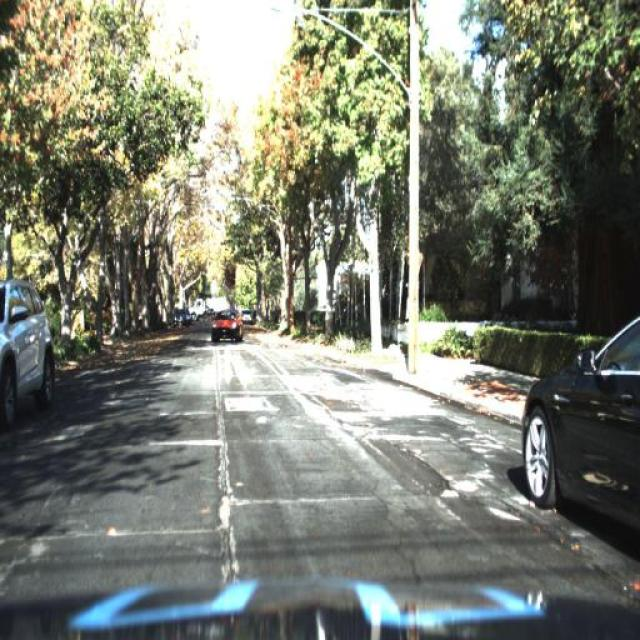car: (522, 298, 640, 550), (0, 277, 61, 418), (206, 310, 245, 348)
